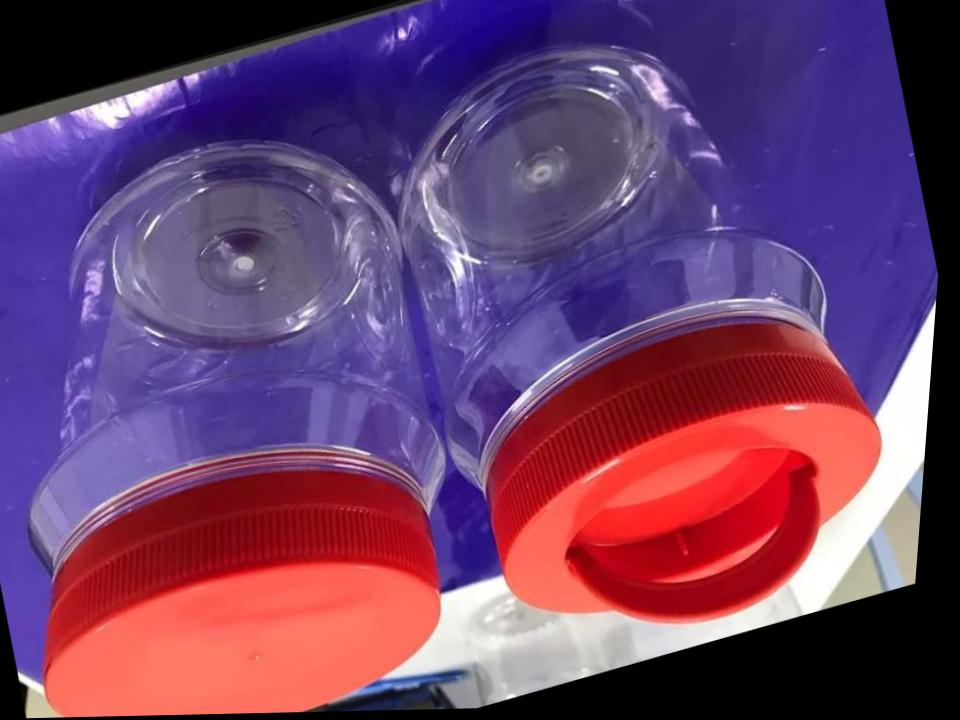plastic: (330, 0, 948, 687), (0, 90, 525, 720)
